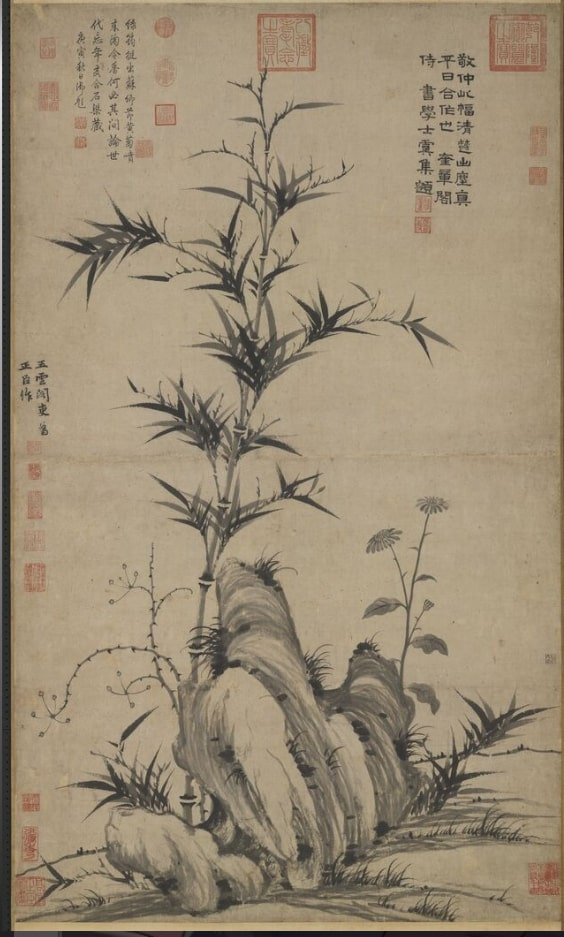bamboo: (129, 67, 365, 906), (416, 693, 544, 817)
hill: (117, 556, 405, 903)
